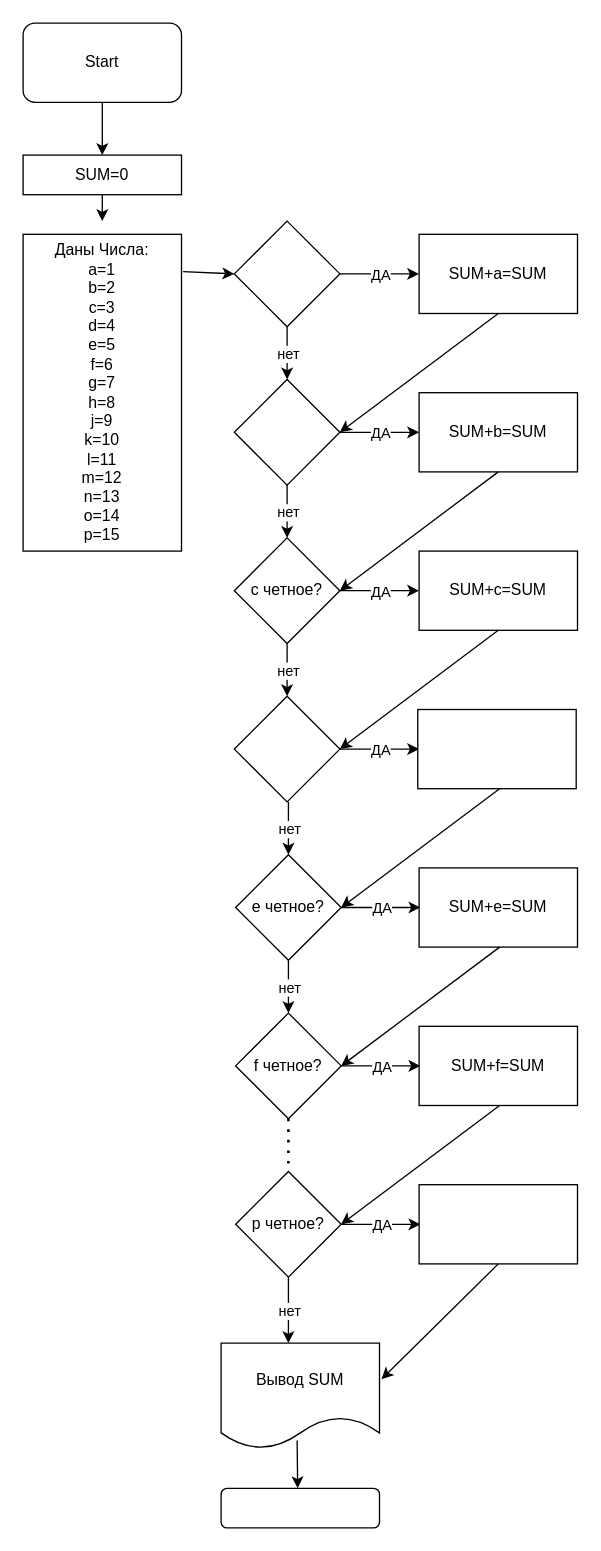
The diagram is 601 pixels wide and 1551 high, and some of its shapes have lost their labels. Here are the shapes that lost their labels. From the top down, the centre of each, then its label:
At (x=286, y=273): "a четное?".
At (x=286, y=431): "b четное?".
At (x=286, y=748): "d четное?".
At (x=496, y=748): "SUM+d=SUM".
At (x=498, y=1223): "SUM+p=SUM".
At (x=300, y=1507): "Stop".
